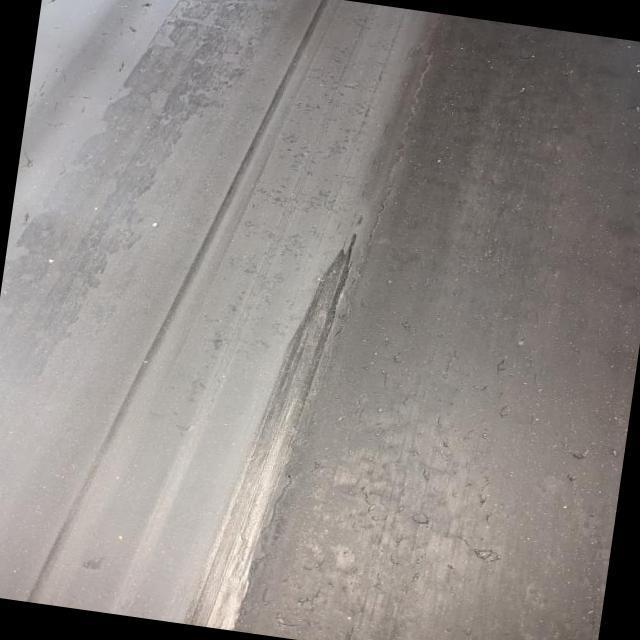Wear: (17, 0, 332, 602), (182, 231, 362, 631)
